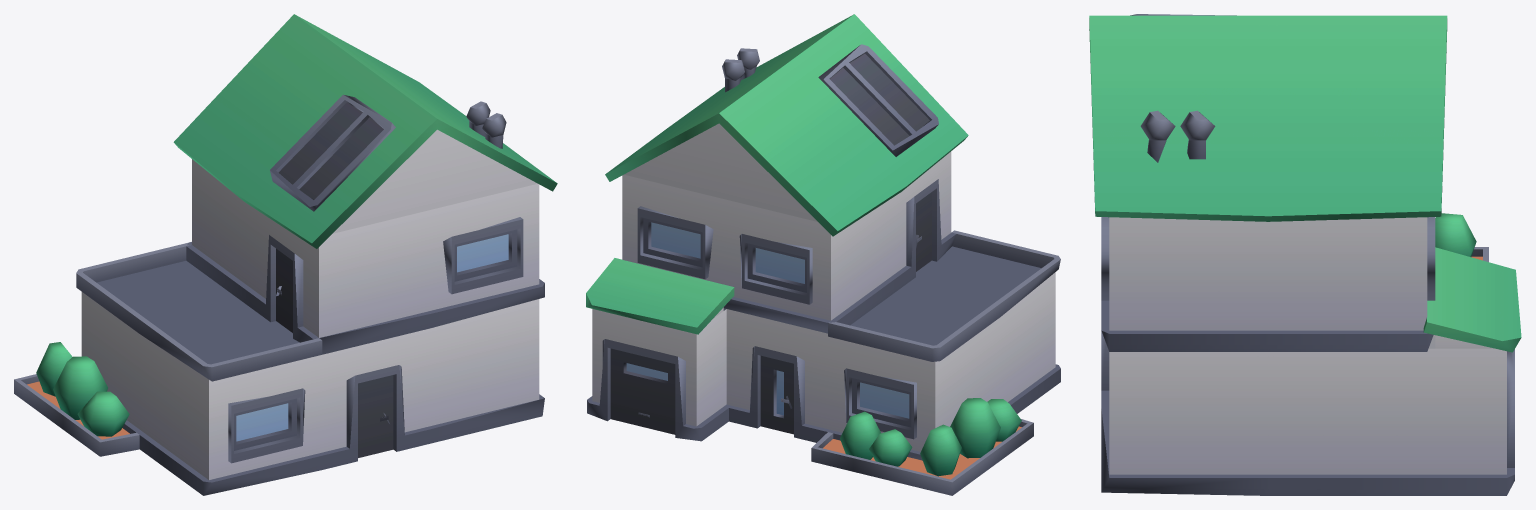
The model's file is 074_city-kit-suburban_building-type-u_card.glb.
3 views of the same model, side by side, from view 1: azimuth 30°, elevation 25°; view 2: azimuth 150°, elevation 25°; view 3: azimuth 270°, elevation 25° (orthographic). The views are drawn at different scales.
Parts seen in each view (by area): view 1: building-type-u; view 2: building-type-u; view 3: building-type-u.
Part boxes in pixels (x1,y1,x2,y2): building-type-u: (14, 14, 557, 495); building-type-u: (586, 14, 1060, 495); building-type-u: (1089, 14, 1521, 495).
Bounding box in the file's own units: 1.41 × 1.14 × 1.09.
Materials: 1 (1 with a texture image).
